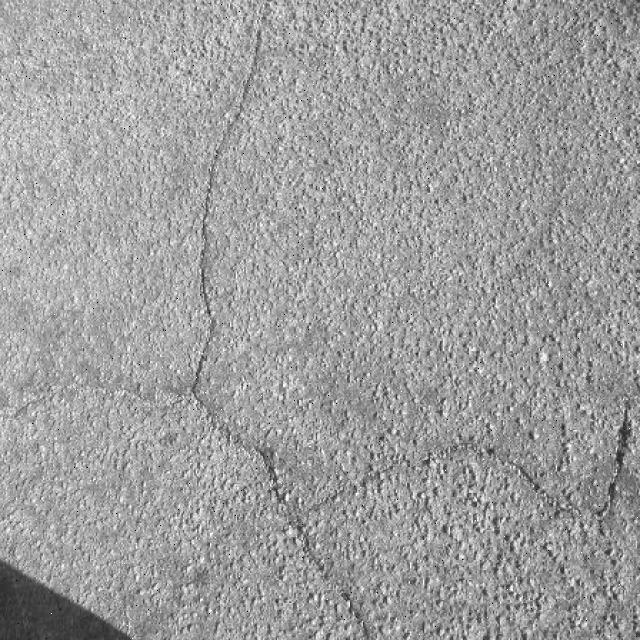Crack: (189, 196, 601, 639), (208, 11, 265, 191), (4, 385, 181, 416), (600, 418, 626, 509)
